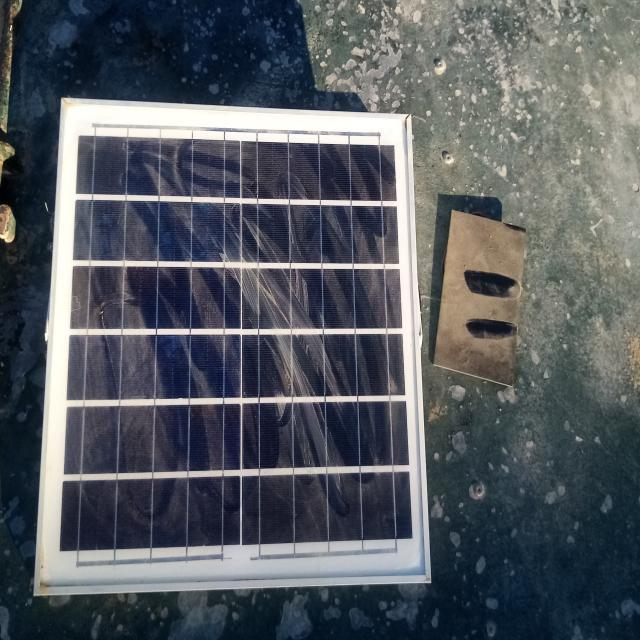faulty: (35, 105, 434, 595), (435, 213, 528, 388)
